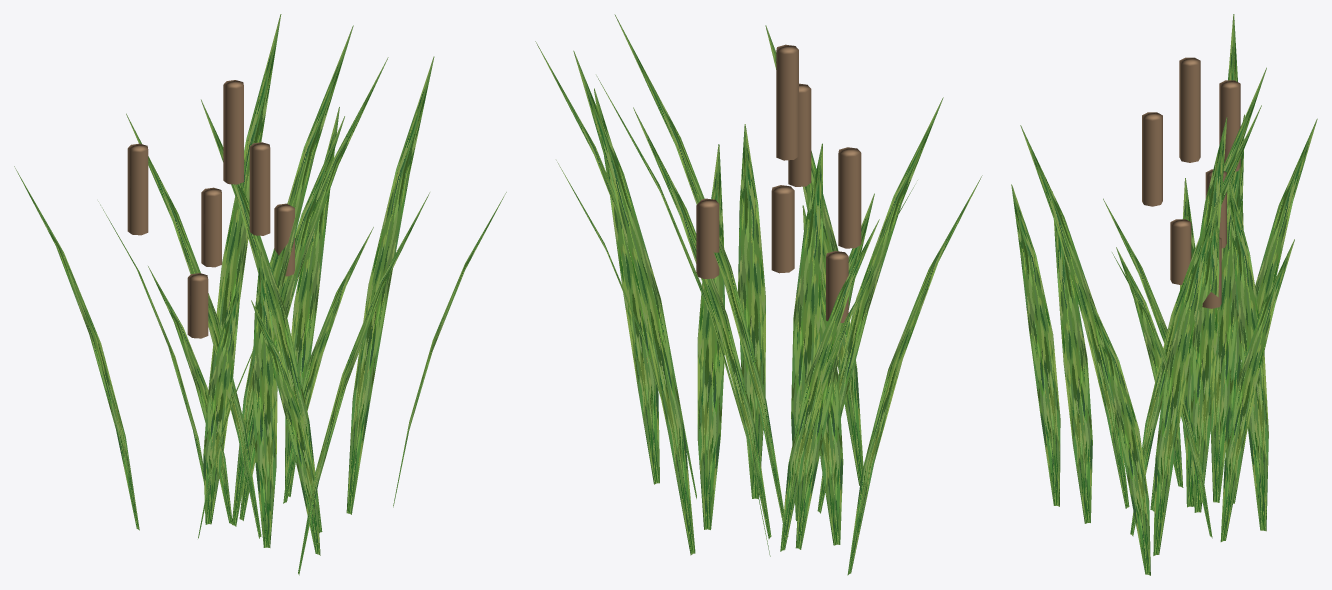
Rendered from nat_river_reeds.glb.
3 views of the same model, side by side, from view 1: azimuth 30°, elevation 25°; view 2: azimuth 150°, elevation 25°; view 3: azimuth 270°, elevation 25° (orthographic). The views are drawn at different scales.
Parts seen in each view (by area): view 1: foliage, cattails; view 2: foliage, cattails; view 3: foliage, cattails.
Boxes of the visible parts, left/top/right/bottom form: foliage: left=14, top=14, right=506, bottom=575; cattails: left=127, top=80, right=294, bottom=338; foliage: left=535, top=14, right=982, bottom=575; cattails: left=696, top=44, right=861, bottom=322; foliage: left=1011, top=14, right=1317, bottom=575; cattails: left=1142, top=57, right=1240, bottom=308.
Size of the model in its own units: 1.9 by 1.96 by 1.19.
Materials: 2 (1 with a texture image).
